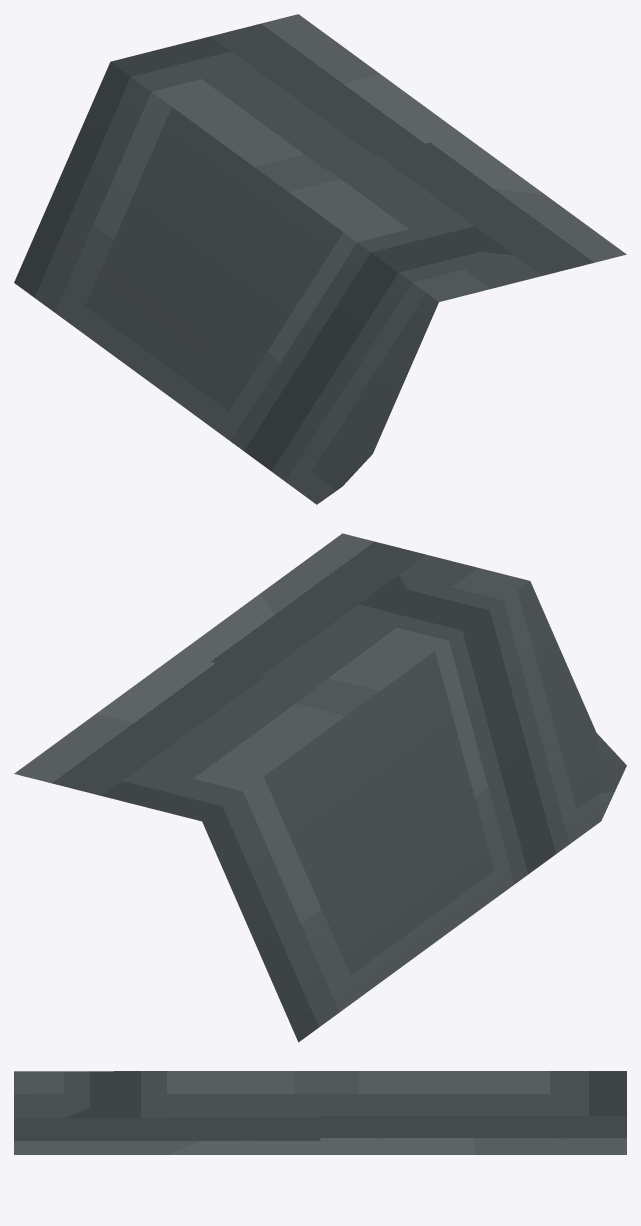
The picture shows the model from 3 angles, top to bottom: view 1: azimuth 30°, elevation 25°; view 2: azimuth 150°, elevation 25°; view 3: azimuth 270°, elevation 25°; orthographic projection. The views are drawn at different scales.
Bounding box in the file's own units: 0.5 × 0.3354 × 1.
2 materials, 2 textured.
